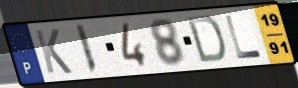4: (120, 21, 148, 70)
8: (148, 16, 188, 69)
D: (185, 15, 229, 65)
I: (73, 23, 101, 76)
K: (32, 28, 75, 76)
L: (223, 14, 265, 61)
